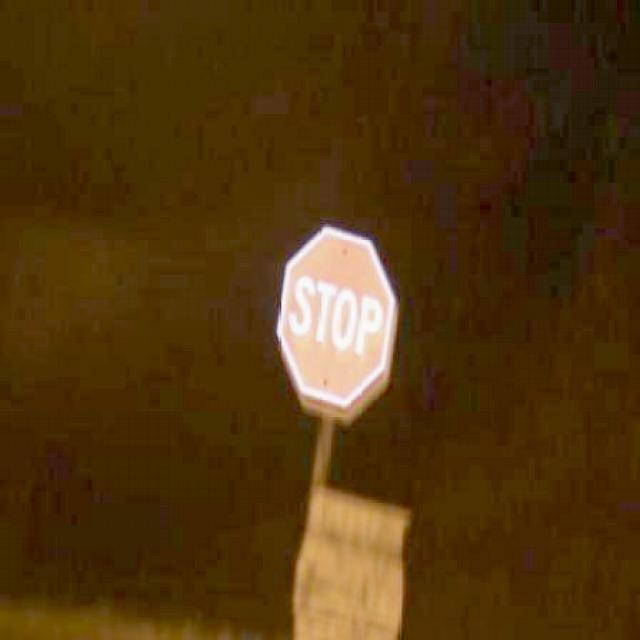Stop-Sign: (276, 225, 398, 423)
